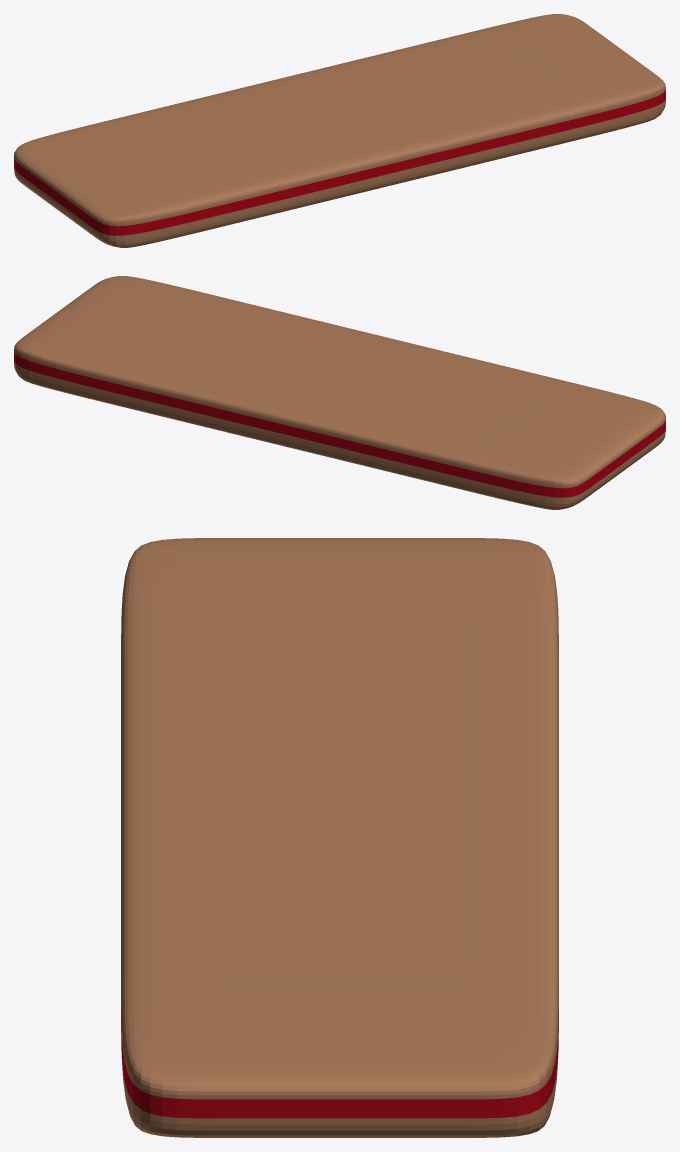
The model's file is Shelf.fbx.
The picture shows the model from 3 angles, top to bottom: view 1: azimuth 30°, elevation 25°; view 2: azimuth 150°, elevation 25°; view 3: azimuth 270°, elevation 25°; orthographic projection. The views are drawn at different scales.
Parts seen in each view (by area): view 1: Shelf; view 2: Shelf; view 3: Shelf.
Boxes of the visible parts, x1=… form: Shelf: x1=14, y1=14, x2=665, y2=247; Shelf: x1=14, y1=276, x2=665, y2=509; Shelf: x1=121, y1=538, x2=558, y2=1137.
Size of the model in its own units: 647 by 37.7 by 217.
